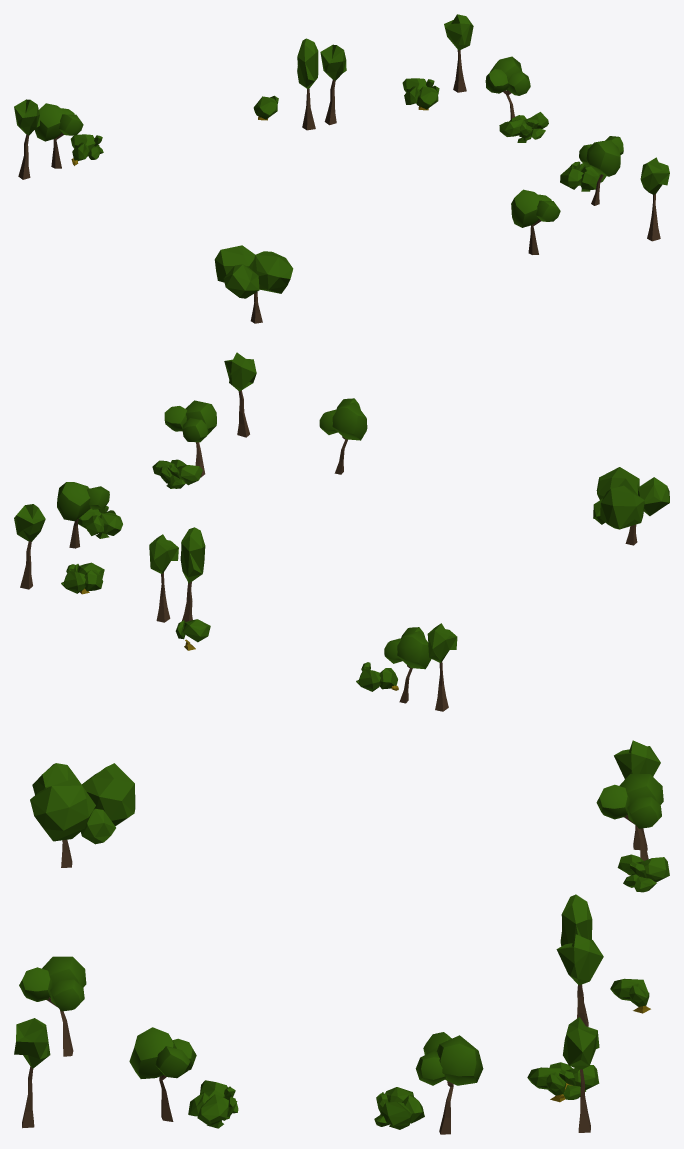
The model's file is arbolesJuntos.obj.
3 views of the same model, one above another, from view 1: azimuth 30°, elevation 25°; view 2: azimuth 150°, elevation 25°; view 3: azimuth 270°, elevation 25° (orthographic). The views are drawn at different scales.
Visible parts, largest first — view 1: arboles001, arboles002, arboles003, arboles; view 2: arboles001, arboles002, arboles, arboles003; view 3: arboles001, arboles003, arboles002, arboles.
Part boxes in pixels (x1,y1,x2,y2): arboles001: [214, 38, 560, 323]; arboles002: [14, 95, 278, 179]; arboles003: [444, 14, 548, 142]; arboles: [560, 136, 669, 241]; arboles001: [61, 398, 669, 622]; arboles002: [175, 619, 457, 711]; arboles: [152, 352, 256, 488]; arboles003: [14, 482, 122, 589]; arboles001: [19, 763, 603, 1102]; arboles003: [374, 1017, 599, 1134]; arboles002: [596, 740, 669, 1013]; arboles: [14, 1018, 238, 1128].
Bounding box in the file's own units: 2454 × 492 × 2255.
3 materials, 2 textured.
